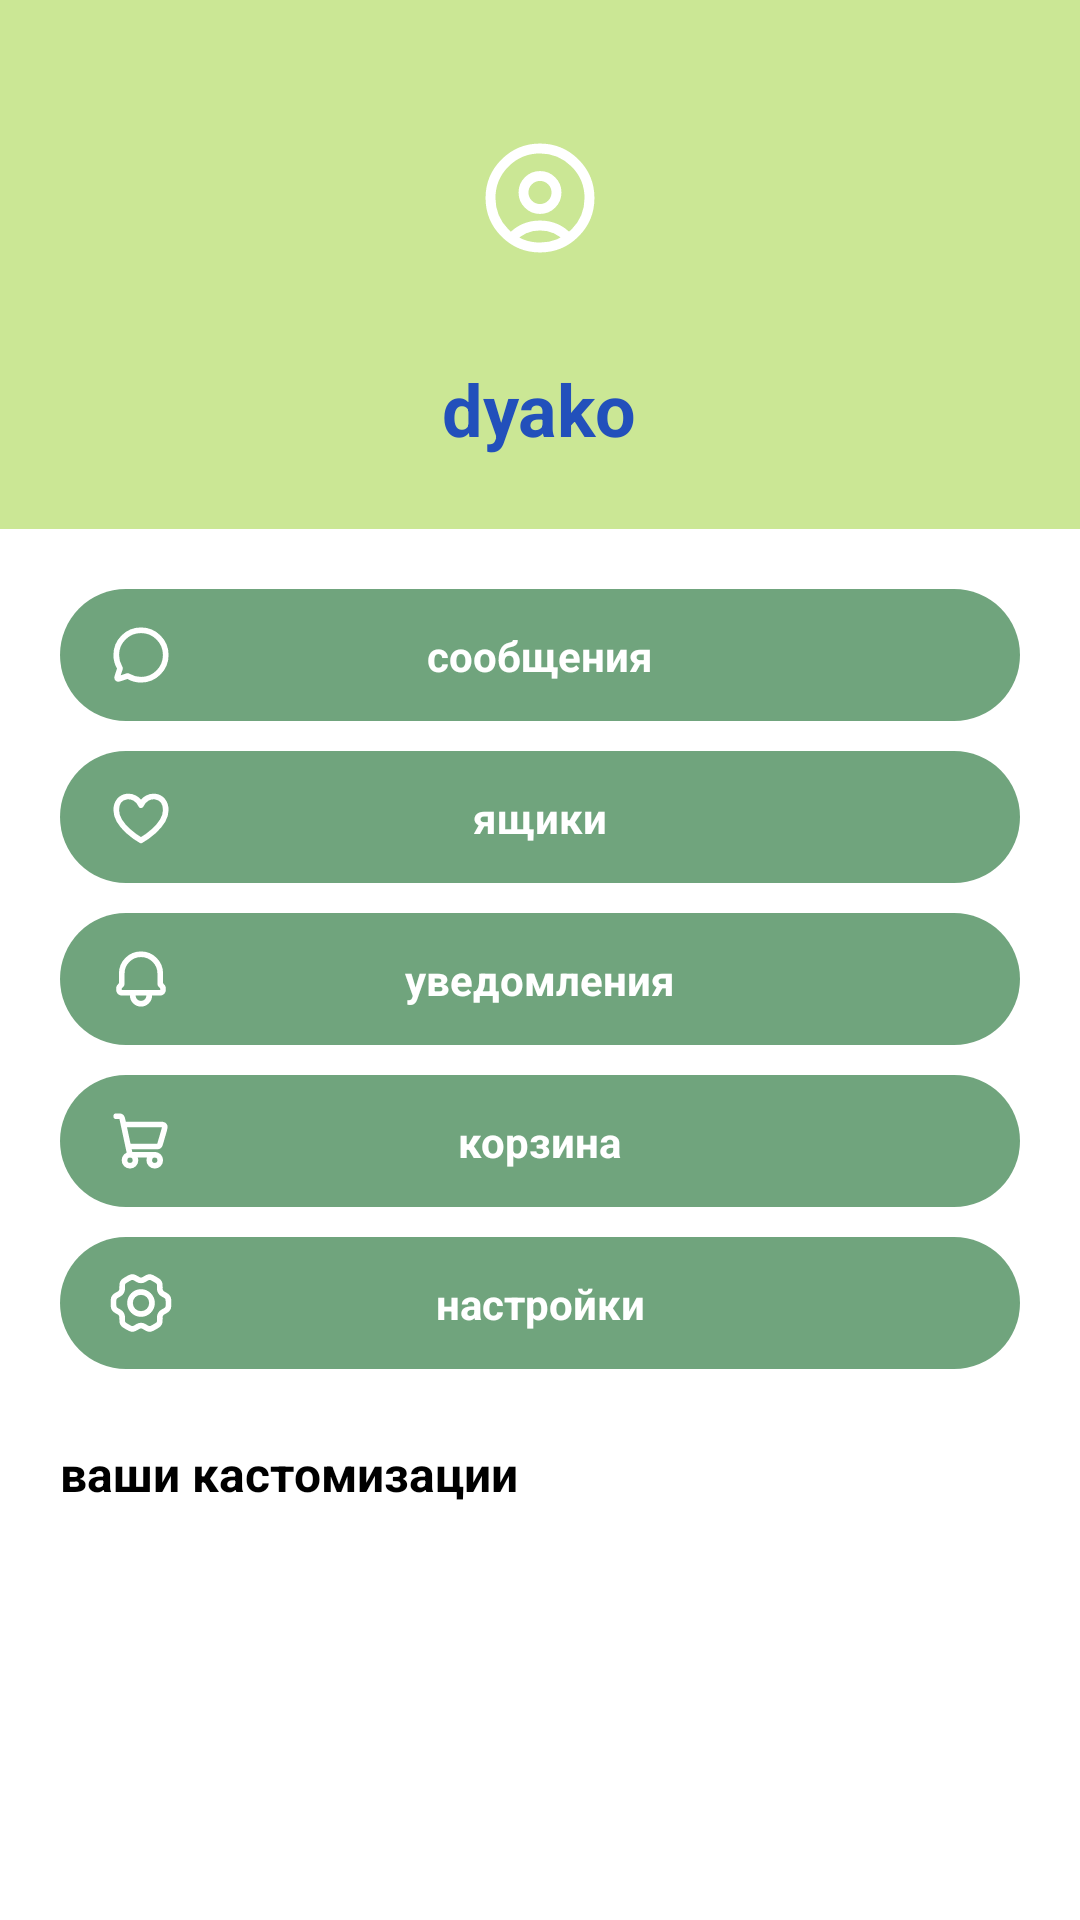

Screen size 1080px x 1920px. Icon name, then its center in pixels as point (x, y):
bell: point (141, 979)
cart: point (140, 1141)
chat: point (141, 655)
heart: point (141, 818)
settings: point (141, 1303)
Аватар пользователя: point (540, 198)
